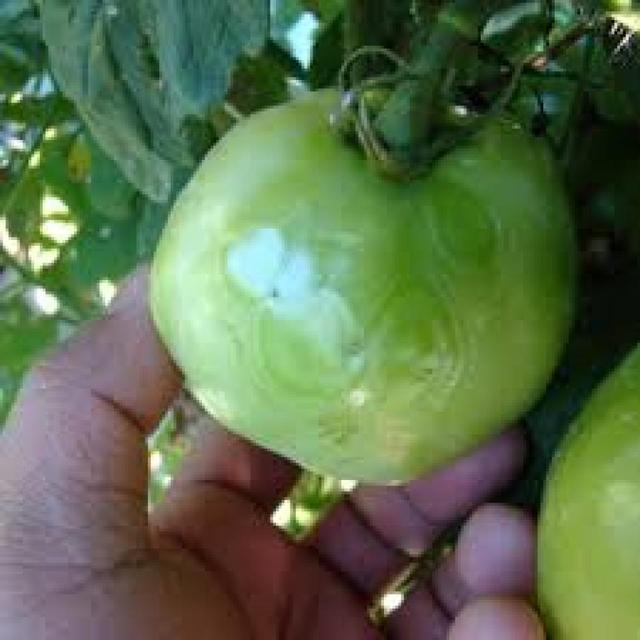Spotted wilt Virus Fruit: (101, 170, 427, 427)
